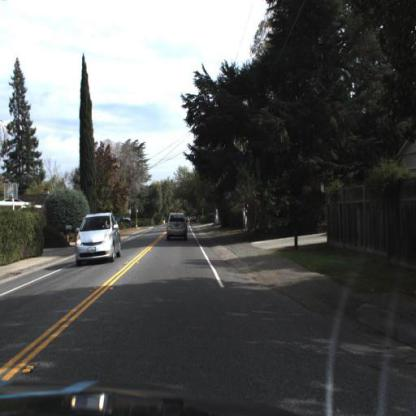car: (76, 212, 123, 267), (167, 211, 191, 240)
